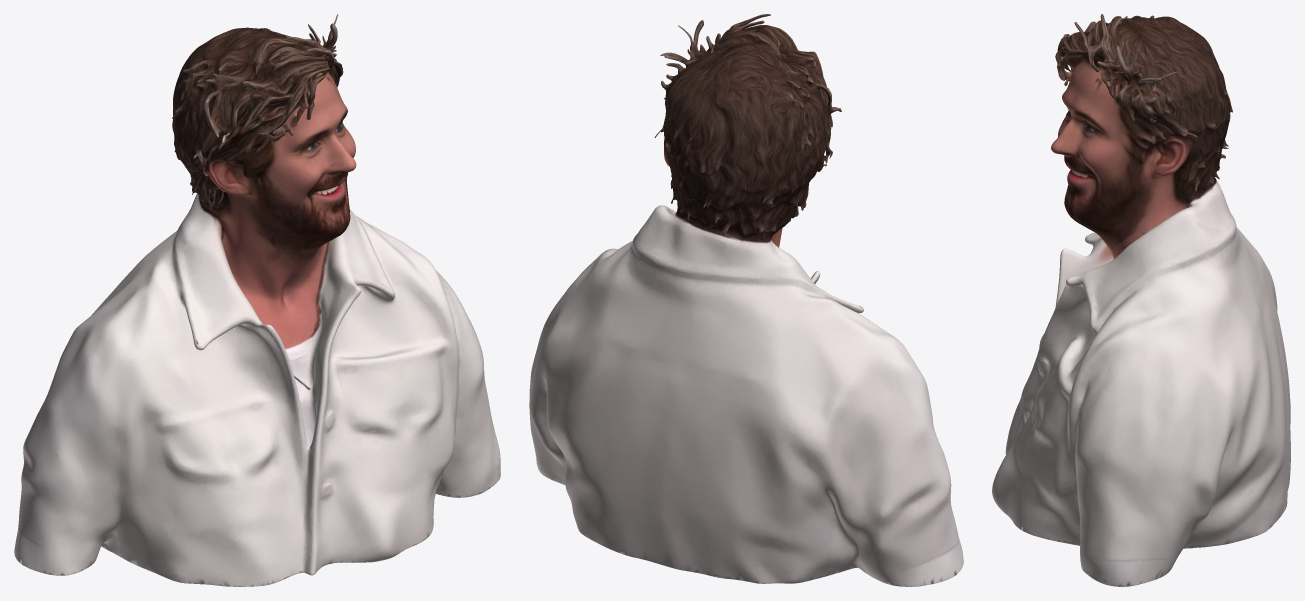
The picture shows the model from 3 angles, left to right: view 1: azimuth 30°, elevation 25°; view 2: azimuth 150°, elevation 25°; view 3: azimuth 270°, elevation 25°; orthographic projection. The views are drawn at different scales.
Bounding box in the file's own units: 1.82 × 1.9 × 1.09.
Materials: 1 (1 with a texture image).
